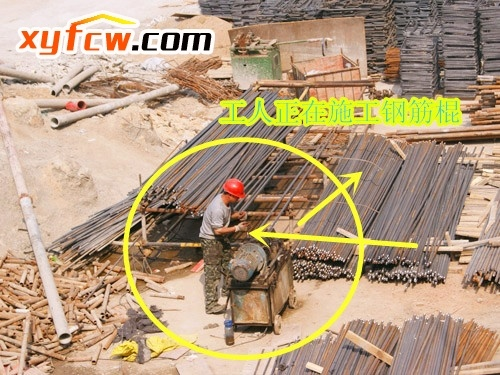red: (220, 177, 245, 204)
